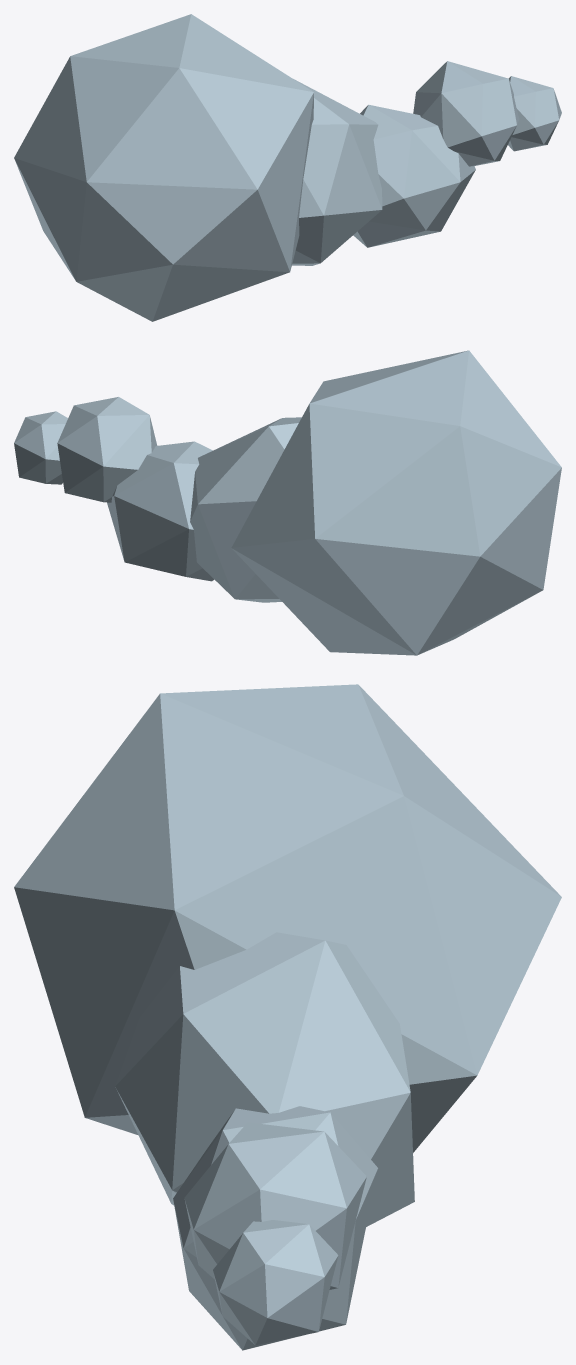
The model's file is small_cloud_7.fbx.
3 renders of one model, top to bottom at view 1: azimuth 30°, elevation 25°; view 2: azimuth 150°, elevation 25°; view 3: azimuth 270°, elevation 25°, orthographic. The views are drawn at different scales.
Parts seen in each view (by area): view 1: cloud_7; view 2: cloud_7; view 3: cloud_7.
Boxes of the visible parts, <box> form: cloud_7: <box>14,14,561,321</box>; cloud_7: <box>14,350,561,655</box>; cloud_7: <box>14,684,561,1350</box>.
Bounding box in the file's own units: 447 × 228 × 249.
